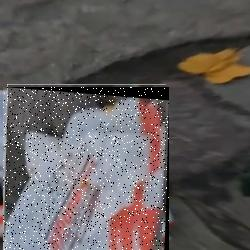restaffald: (3, 87, 169, 250)
